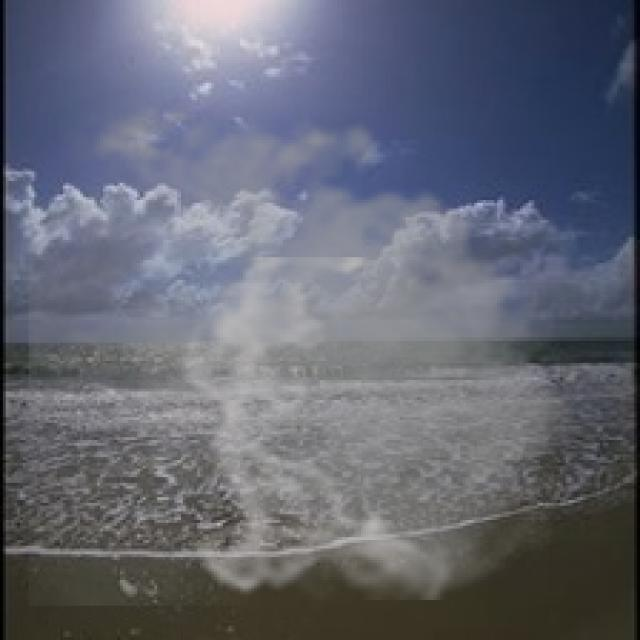smoke: (29, 89, 597, 606)
